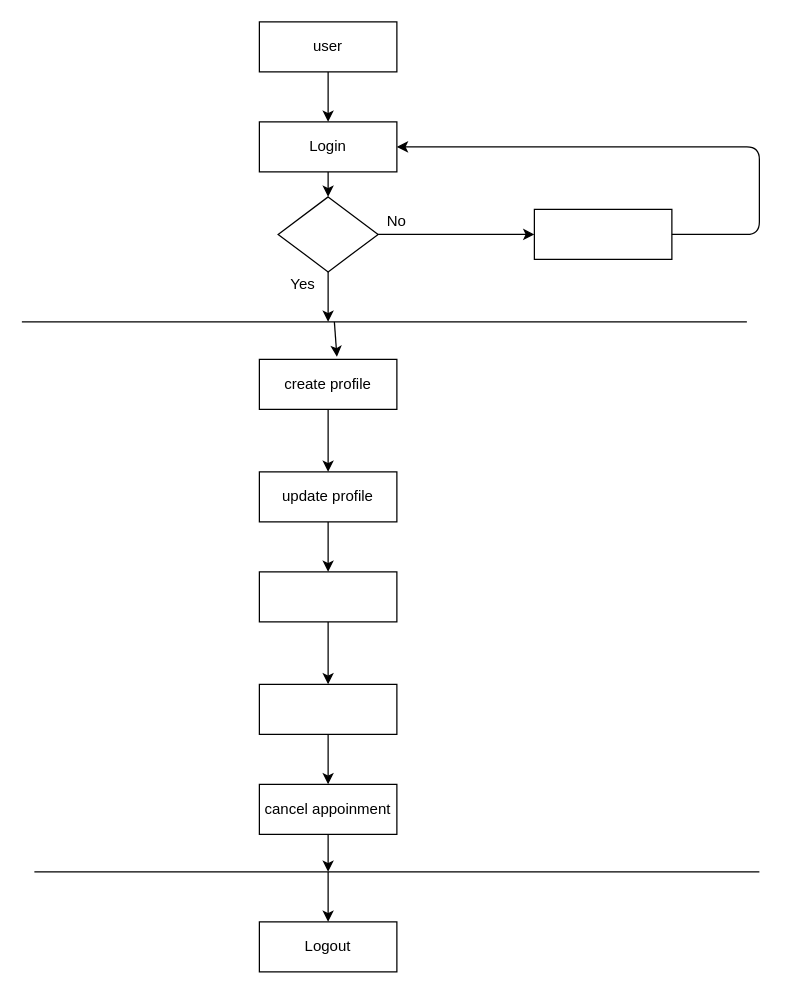
The diagram is 791 pixels wide and 994 high, and some of its shapes have lost their labels. The shapes that lost their labels are listed below. From the top down, each one's box as (x1, y1, x2, y2) in pixels, then its label:
(533, 208, 672, 259): Registration
(258, 571, 397, 622): check doctor list
(258, 683, 397, 734): book appointmnet
